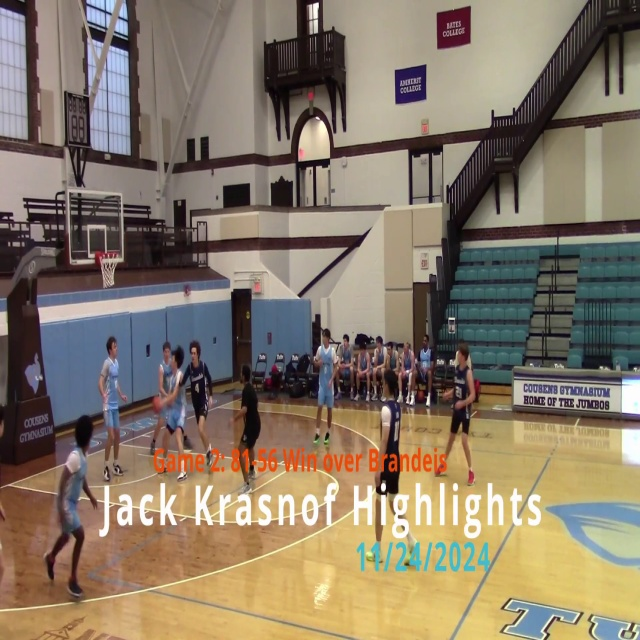Basketball: (66, 450, 81, 473), (380, 405, 391, 425), (152, 395, 163, 413), (365, 551, 374, 561)
